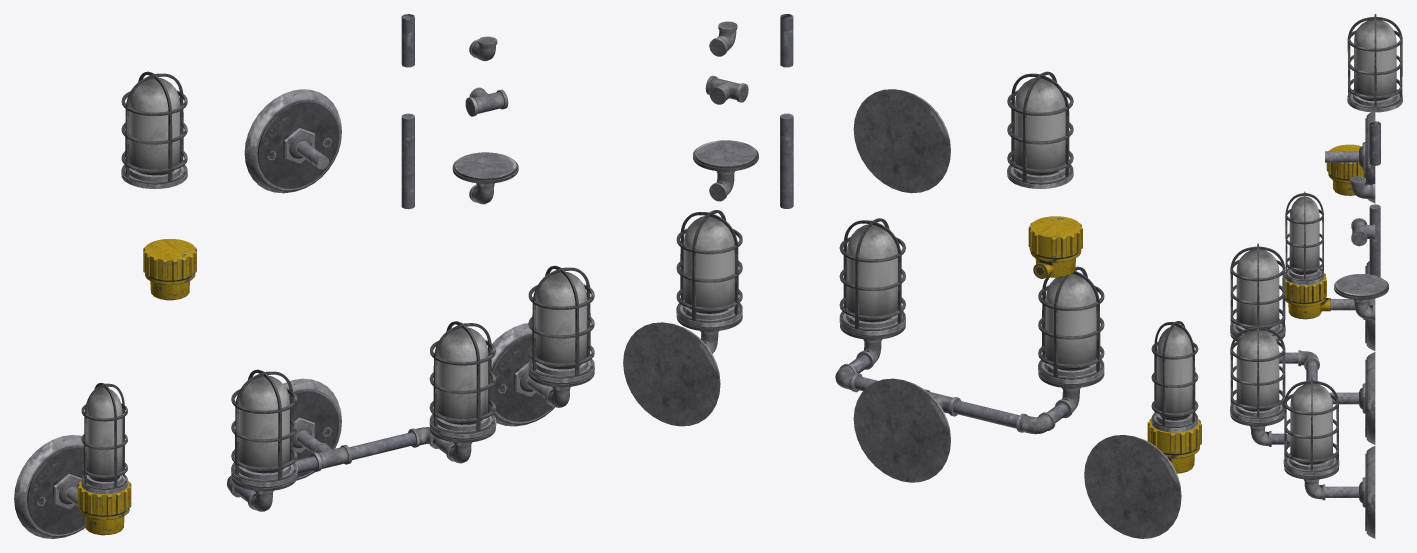
The model's file is industrial_caged_sconce.glb.
3 views of the same model, side by side, from view 1: azimuth 30°, elevation 25°; view 2: azimuth 150°, elevation 25°; view 3: azimuth 270°, elevation 25° (orthographic). The views are drawn at different scales.
Visible parts, largest first — view 1: industrial_caged_sconce_b; view 2: industrial_caged_sconce_b; view 3: industrial_caged_sconce_b.
Boxes of the visible parts, left/top/right/bottom form: industrial_caged_sconce_b: left=14, top=14, right=594, bottom=538; industrial_caged_sconce_b: left=623, top=14, right=1201, bottom=538; industrial_caged_sconce_b: left=1230, top=14, right=1402, bottom=538.
Size of the model in its own units: 1.21 by 0.9128 by 0.3895.
1 material, 1 textured.
